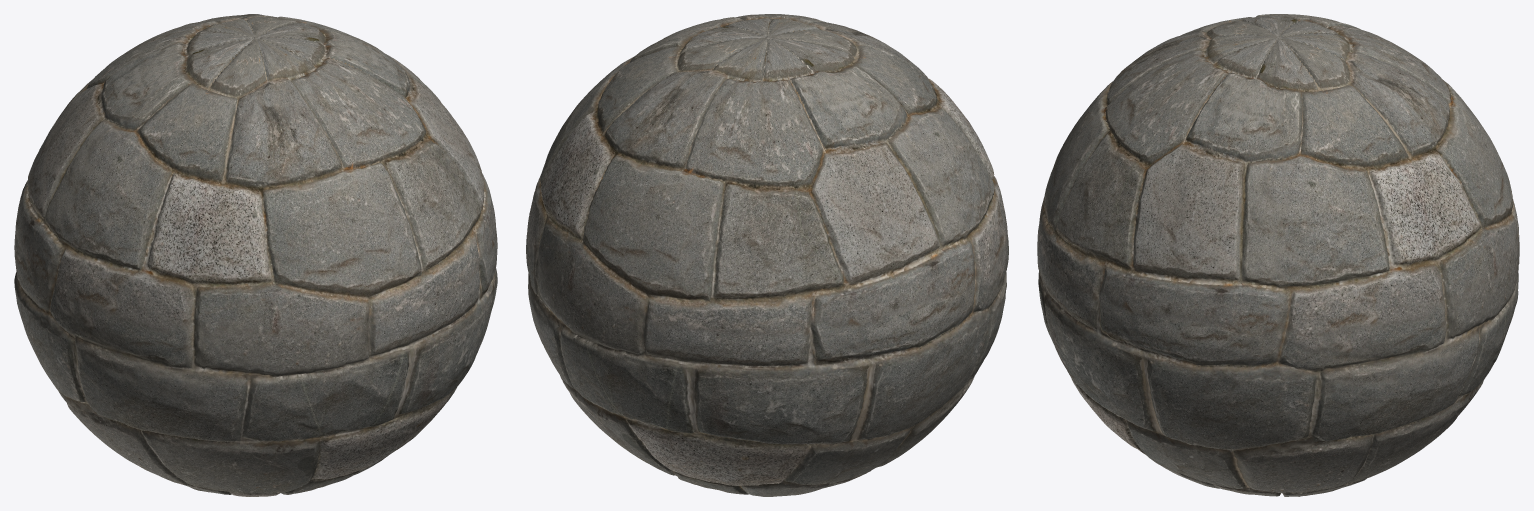
File: japanese_stone_wall_1k.gltf
3 renders of one model, left to right at view 1: azimuth 30°, elevation 25°; view 2: azimuth 150°, elevation 25°; view 3: azimuth 270°, elevation 25°, orthographic.
Parts seen in each view (by area): view 1: sphere_gltf; view 2: sphere_gltf; view 3: sphere_gltf.
Boxes of the visible parts, box(x1,y1,x2,y2) form: sphere_gltf: box(14, 14, 497, 496); sphere_gltf: box(526, 14, 1008, 496); sphere_gltf: box(1037, 14, 1519, 496).
Bounding box in the file's own units: 1.91 × 1.92 × 1.91.
1 material, 1 textured.
